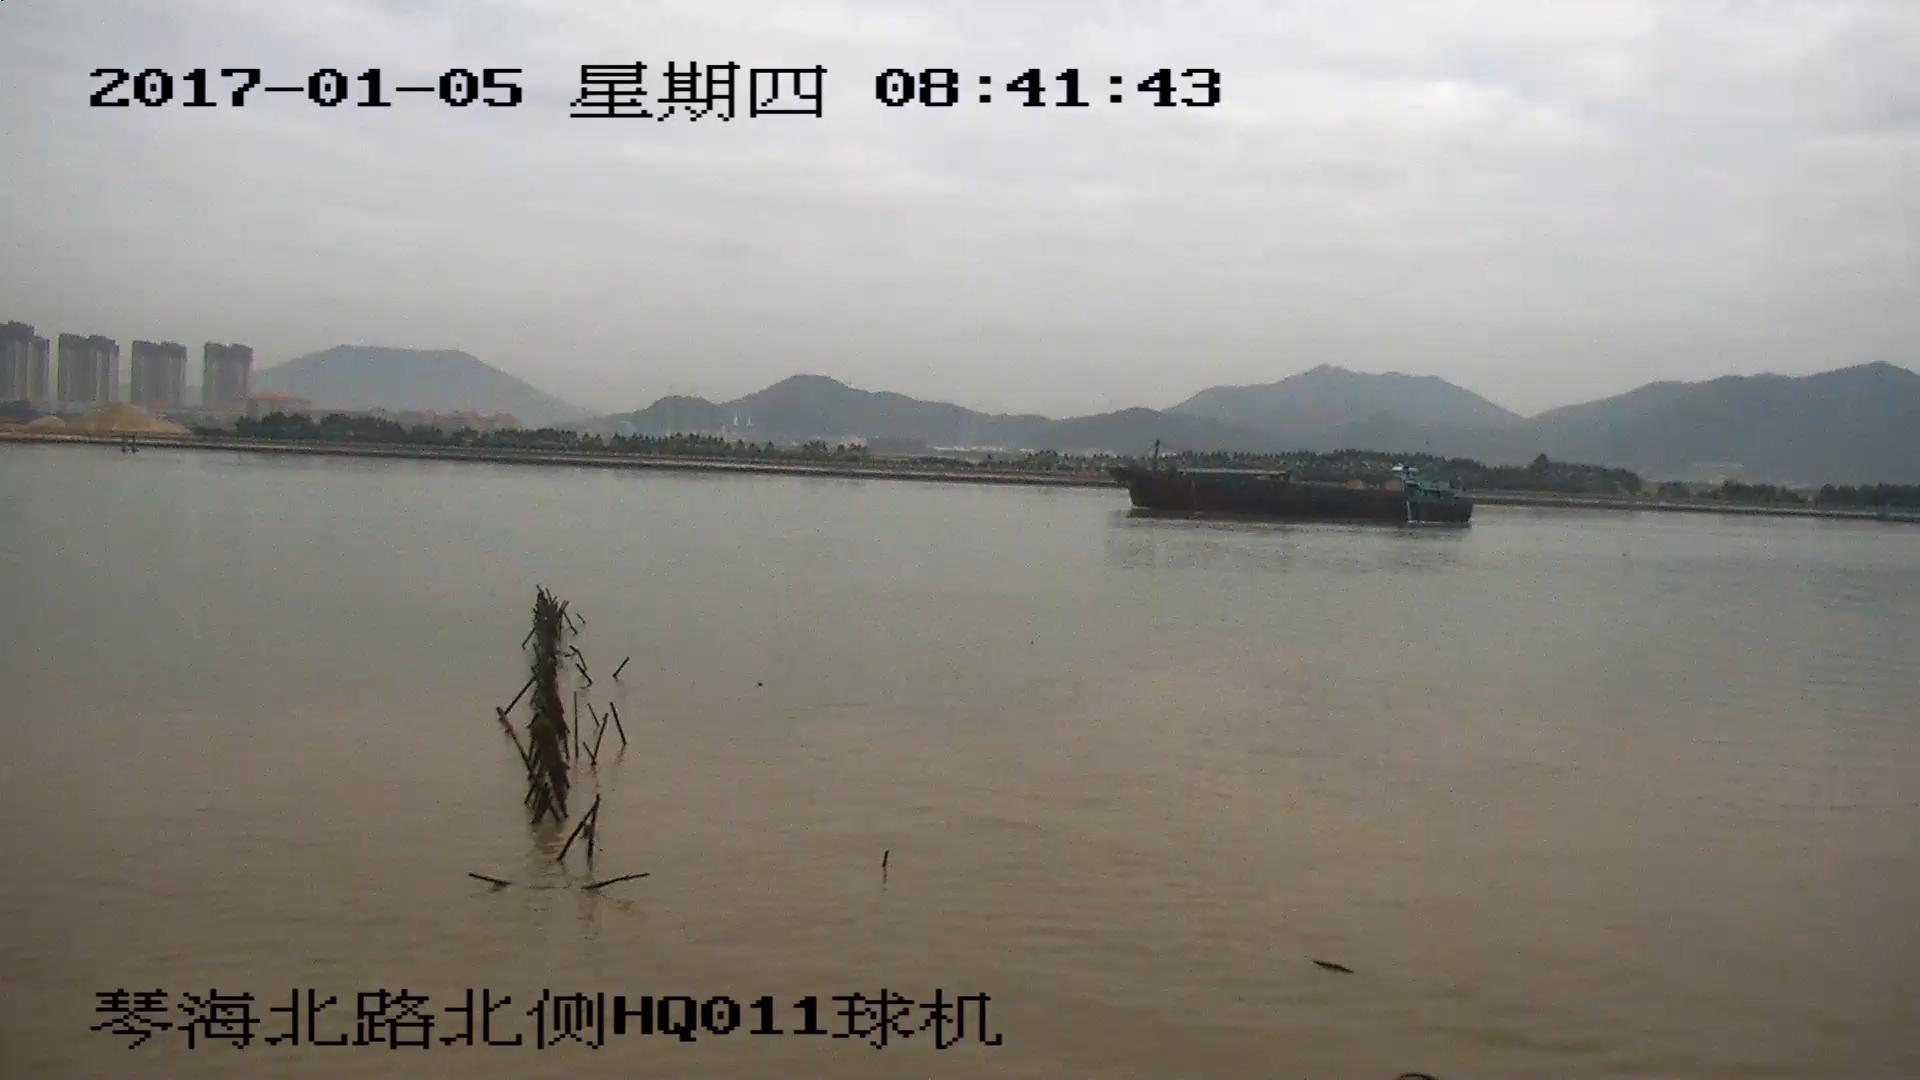Ship: (1113, 443, 1472, 525)
